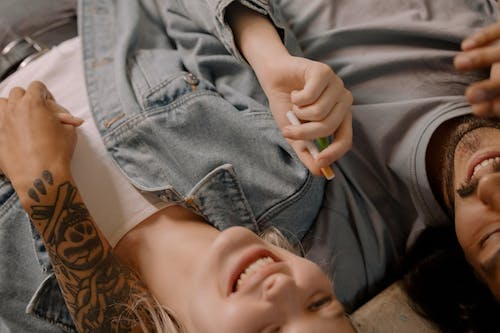cigarette: (286, 109, 336, 181)
